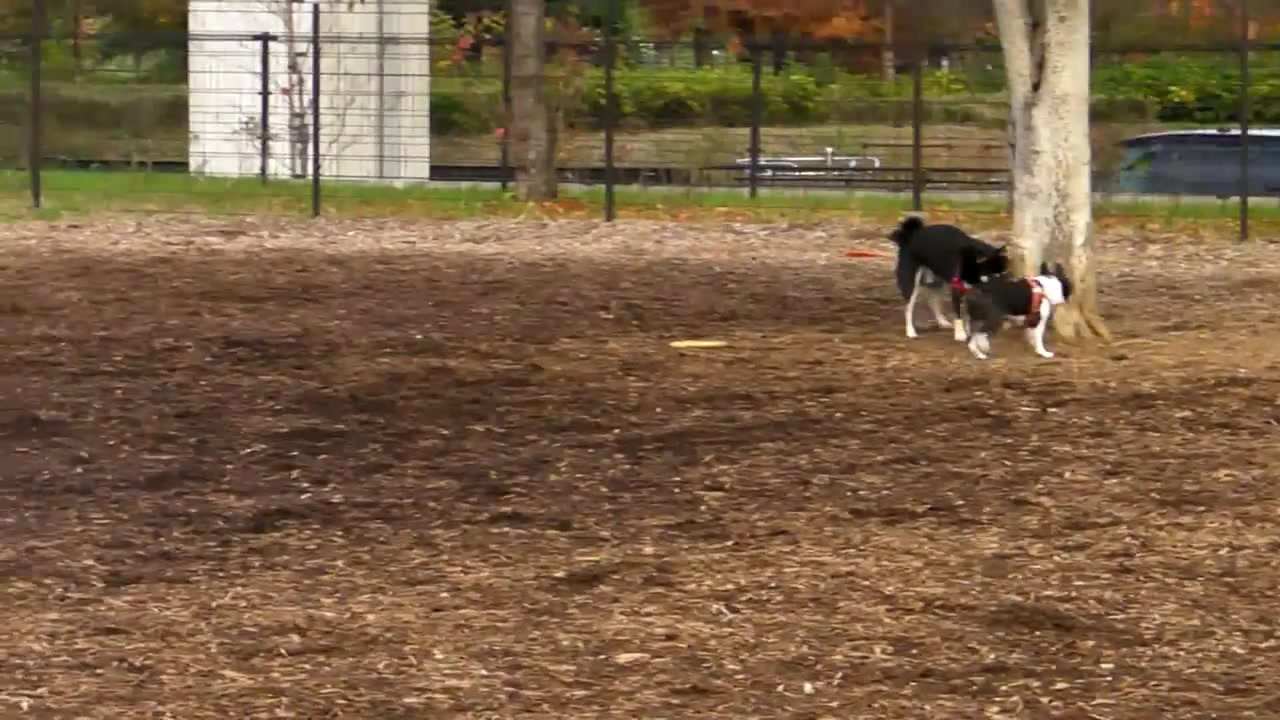dog: (959, 262, 1078, 358)
